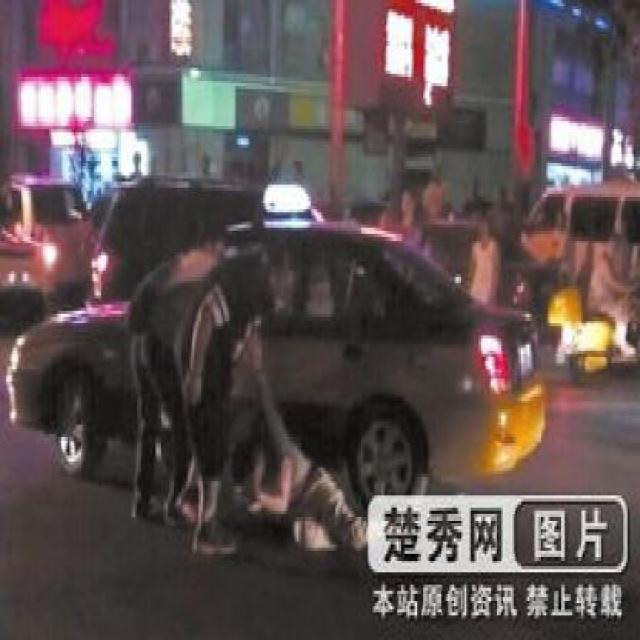fall: (235, 422, 372, 563)
